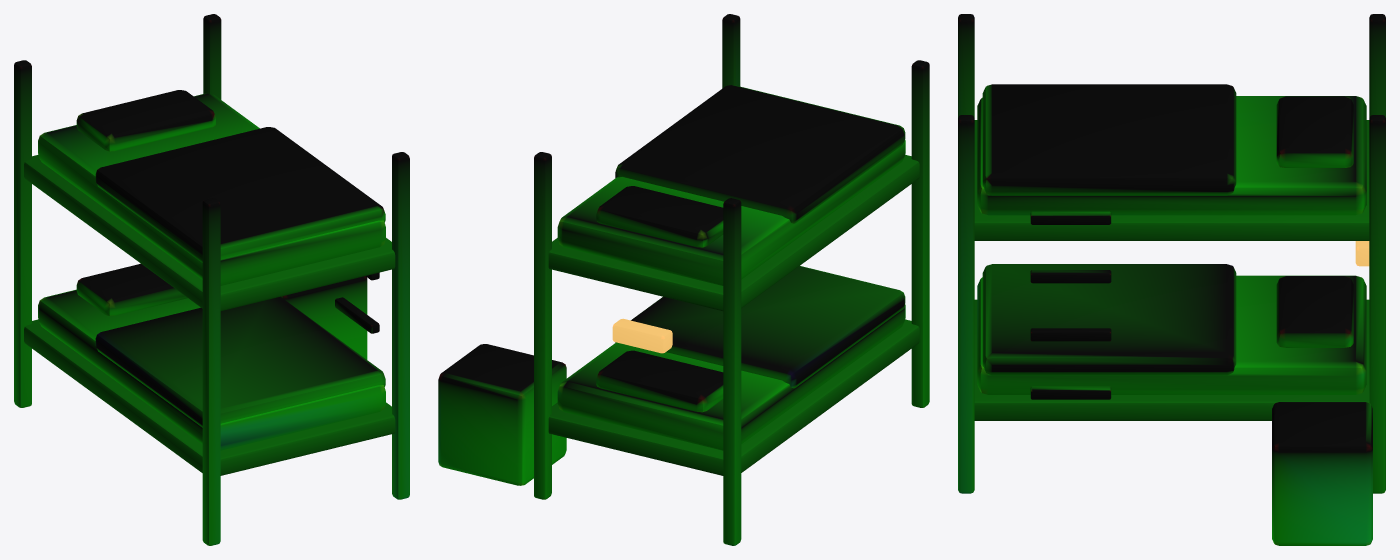
Rendered from hero_bunk_bed.glb.
3 renders of one model, left to right at view 1: azimuth 30°, elevation 25°; view 2: azimuth 150°, elevation 25°; view 3: azimuth 270°, elevation 25°, orthographic. The views are drawn at different scales.
Parts seen in each view (by area): view 1: HeroBunkBed; view 2: HeroBunkBed; view 3: HeroBunkBed.
Boxes of the visible parts, left/top/right/bottom form: HeroBunkBed: left=14, top=14, right=409, bottom=545; HeroBunkBed: left=438, top=14, right=929, bottom=545; HeroBunkBed: left=958, top=14, right=1385, bottom=545.
Bounding box in the file's own units: 2.1 × 2.25 × 2.33.
